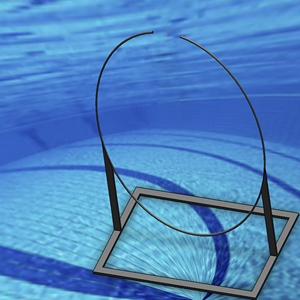circle: (91, 26, 297, 300)
